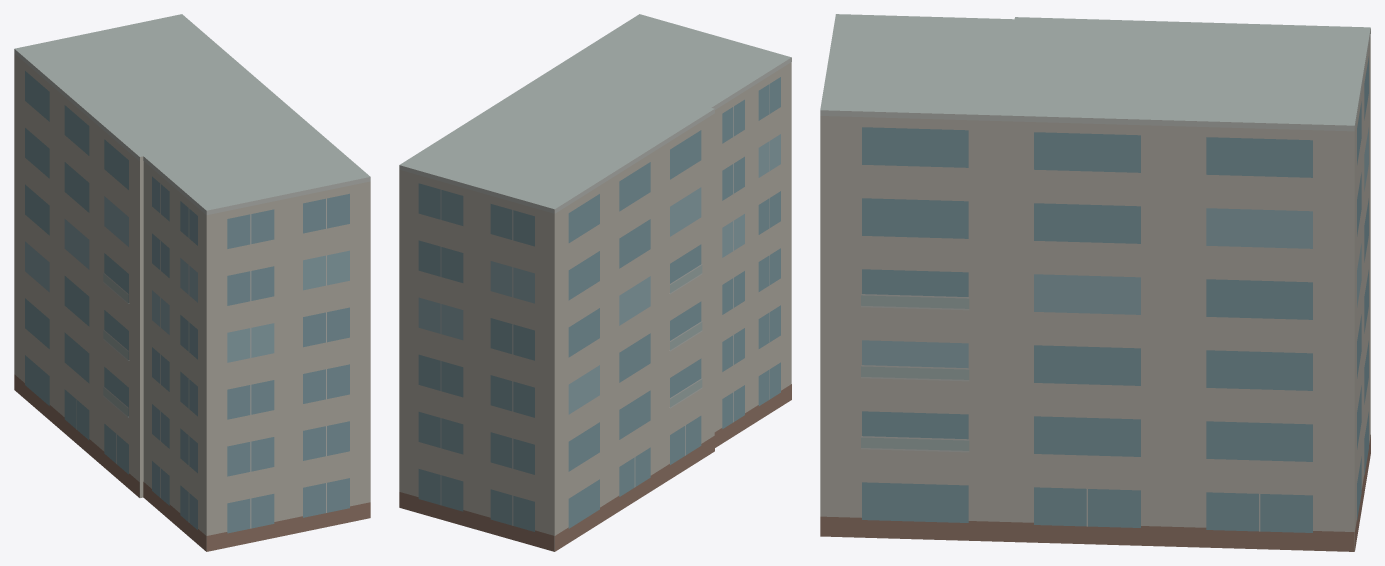
File: survey-upis-32653958.glb
3 views of the same model, side by side, from view 1: azimuth 30°, elevation 25°; view 2: azimuth 150°, elevation 25°; view 3: azimuth 270°, elevation 25° (orthographic). The views are drawn at different scales.
Visible parts, largest first — view 1: survey-upis-32653958.tmp; view 2: survey-upis-32653958.tmp; view 3: survey-upis-32653958.tmp.
Part boxes in pixels (box(x1,y1,x2,y2)): survey-upis-32653958.tmp: box(14, 14, 370, 551); survey-upis-32653958.tmp: box(399, 14, 791, 551); survey-upis-32653958.tmp: box(820, 14, 1370, 551).
Bounding box in the file's own units: 10.29 × 18.3 × 21.44.
